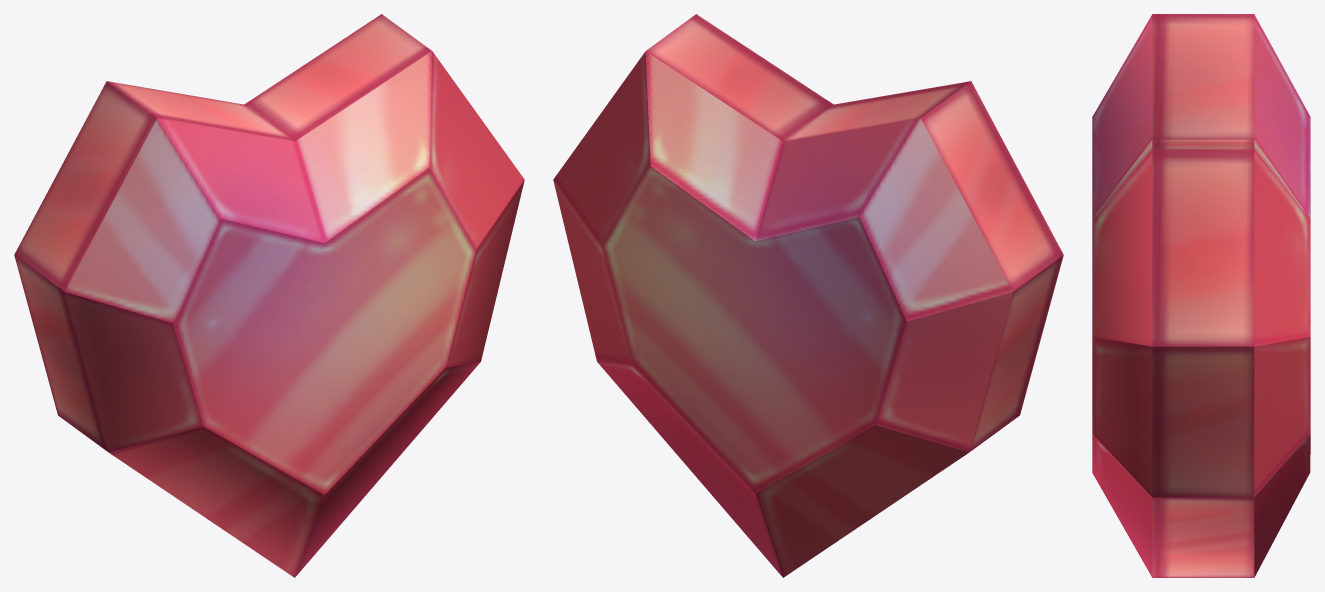
The model's file is heart.FBX.
3 renders of one model, left to right at view 1: azimuth 30°, elevation 25°; view 2: azimuth 150°, elevation 25°; view 3: azimuth 270°, elevation 25°, orthographic.
Visible parts, largest first — view 1: Line001; view 2: Line001; view 3: Line001.
Boxes of the visible parts, x1,y1,x2,y2 form: Line001: (14, 14, 524, 577); Line001: (553, 14, 1063, 577); Line001: (1092, 14, 1310, 577).
Bounding box in the file's own units: 0.4016 × 0.4116 × 0.1643.
